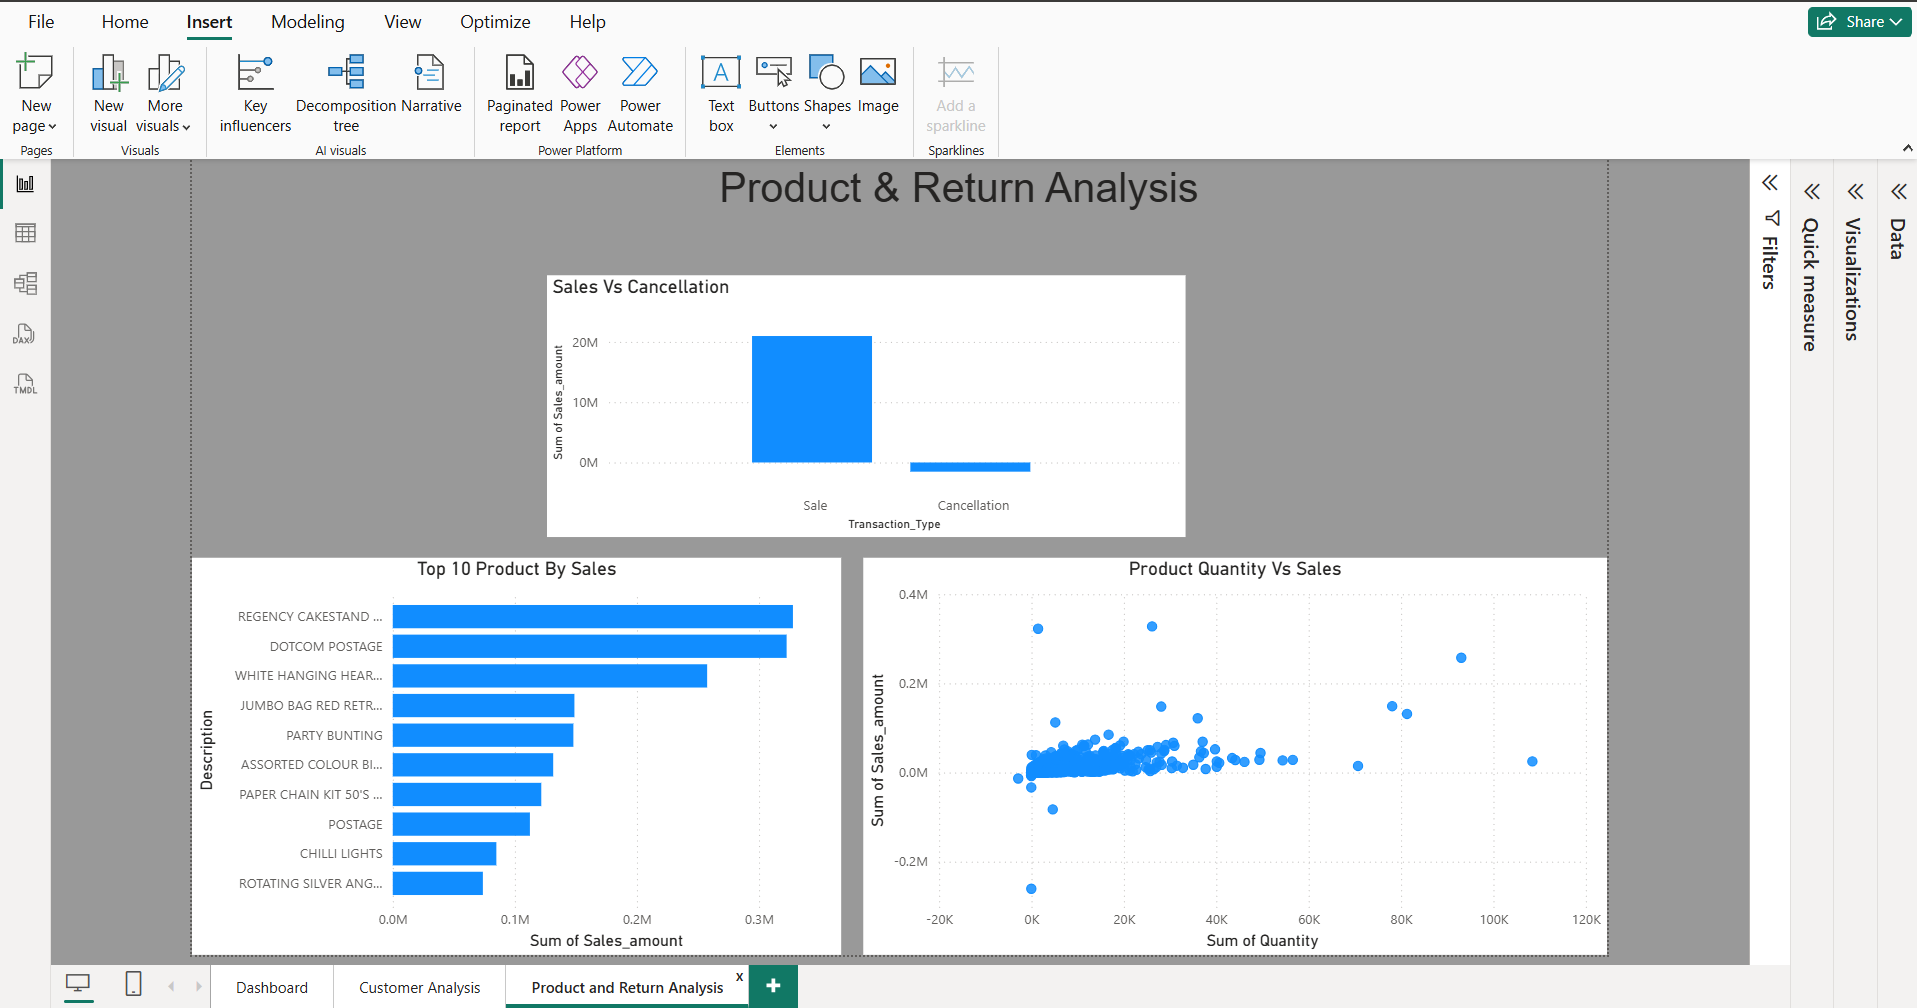

What the dashboard file says about the page in this screenshot:
{"tool":"powerbi","page":{"name":"Product and Return Analysis","canvas":[1280,720],"ordinal":2},"visuals":[{"type":"clusteredBarChart","title":"Top 10 Product By Sales","fields":{"Category":["Sales_Data.Description"],"Y":["Sum(Sales_Data.Sales_amount)"]},"box":[0,360.6,587.3,359.2],"z":0},{"type":"textbox","box":[441.9,0,503.2,55.6],"z":1},{"type":"scatterChart","title":"Product Quantity Vs Sales","fields":{"X":["Sum(Sales_Data.Quantity)"],"Y":["Sum(Sales_Data.Sales_amount)"],"Category":["Sales_Data.Description"]},"box":[607.2,360.6,672.8,359.2],"z":2},{"type":"clusteredColumnChart","title":"Sales Vs Cancellation","fields":{"Y":["Sum(Sales_Data.Sales_amount)"],"Category":["Sales_Data.Transaction_Type"]},"box":[320.7,105.5,577.3,236.6],"z":3}]}

Visuals, with their boxes on the page's 1280x720 design canvas (x1, y1, x2, y2). These are canvas units, not pixel positions in the 1917x1008 screenshot, which may show the page scaled, cropped or inside an application window:
"Top 10 Product By Sales" clusteredBarChart: 0, 361, 587, 720
textbox: 442, 0, 945, 56
"Product Quantity Vs Sales" scatterChart: 607, 361, 1280, 720
"Sales Vs Cancellation" clusteredColumnChart: 321, 106, 898, 342
